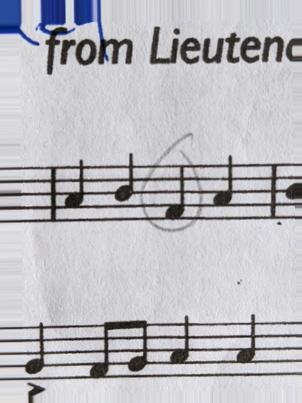note: (159, 161, 191, 228), (208, 152, 237, 222), (165, 314, 194, 382), (232, 312, 260, 382), (111, 149, 136, 224), (61, 156, 88, 225), (23, 320, 49, 386)
